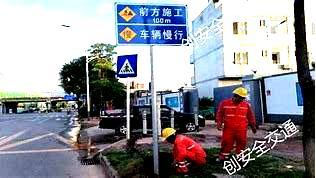sign: (116, 3, 189, 44)
